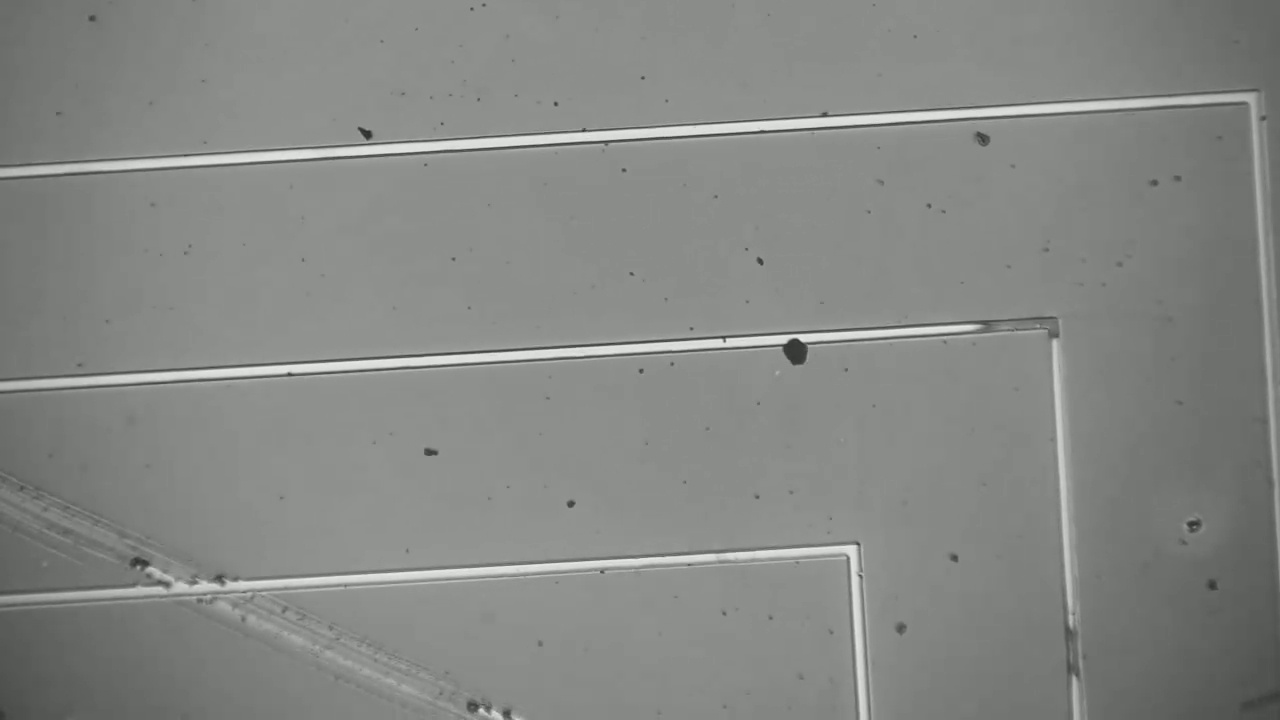edge_bite: (841, 567, 866, 584)
gray_line: (1054, 612, 1095, 690), (958, 314, 1074, 341), (1040, 307, 1070, 358)
scratch: (1, 480, 517, 710)
stains_enbedded: (771, 323, 826, 371)
